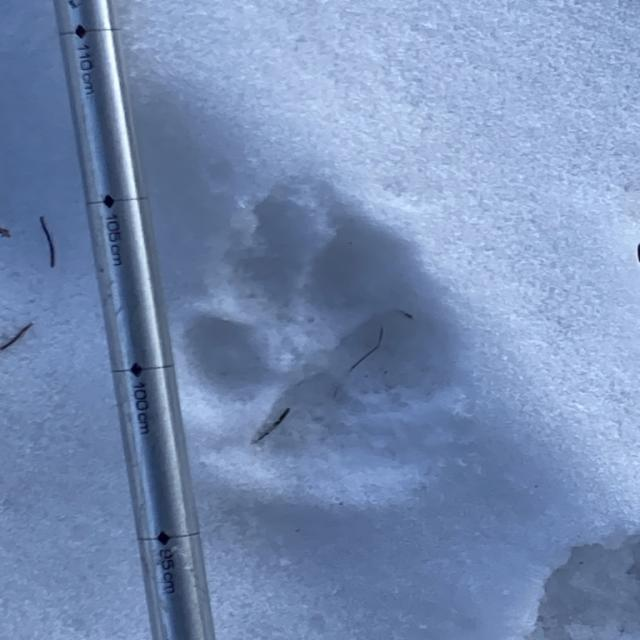canid: (177, 186, 463, 492)
